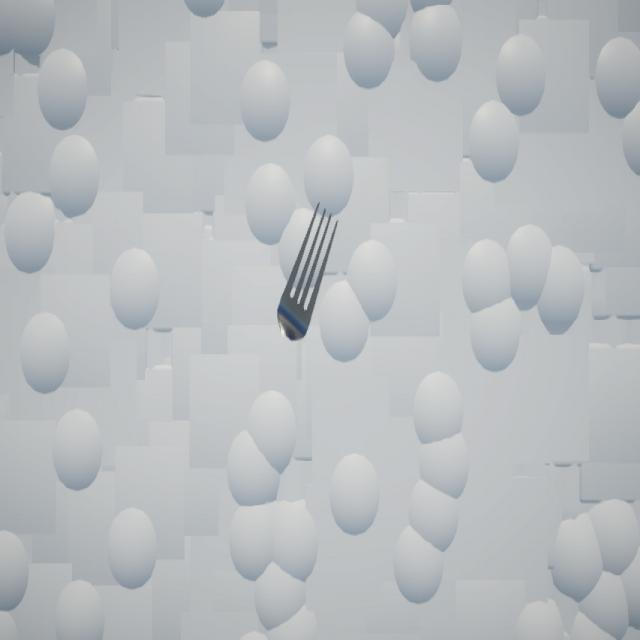top_folk: (278, 203, 339, 343)
